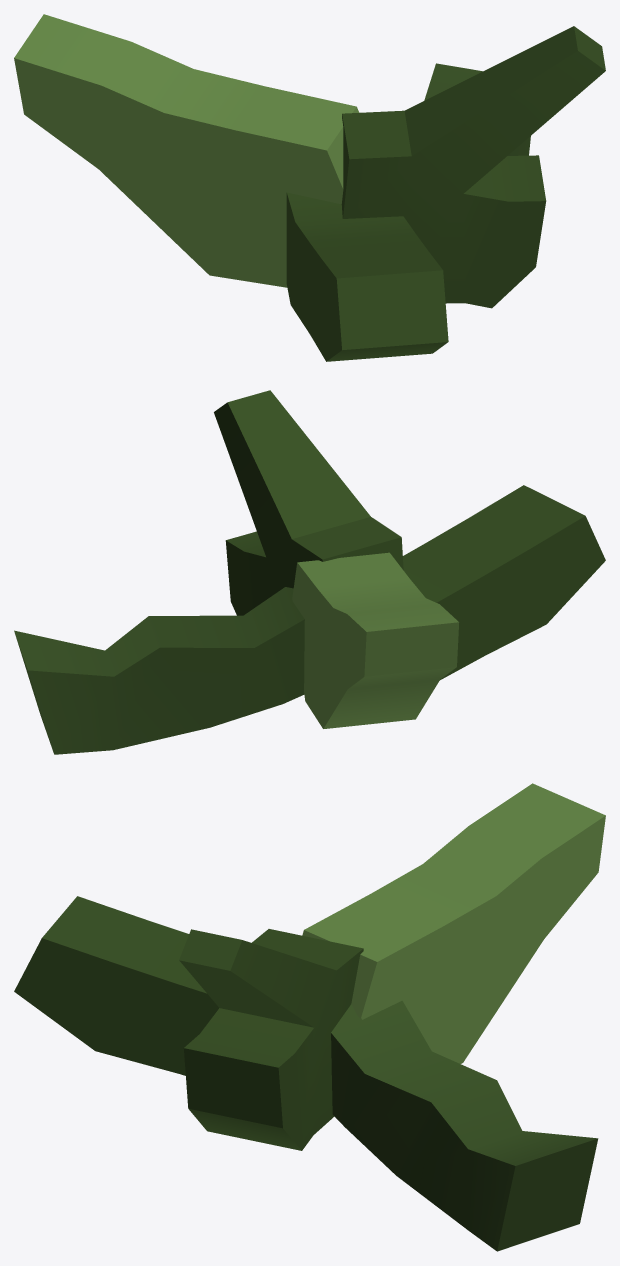
Rendered from EverGreenBranch04.fbx.
The picture shows the model from 3 angles, top to bottom: view 1: azimuth 30°, elevation 25°; view 2: azimuth 150°, elevation 25°; view 3: azimuth 270°, elevation 25°; orthographic projection. The views are drawn at different scales.
Visible parts, largest first — view 1: Evergreen04; view 2: Evergreen04; view 3: Evergreen04.
Part boxes in pixels (left/top/right/bottom): Evergreen04: left=14, top=14, right=605, bottom=361; Evergreen04: left=14, top=390, right=605, bottom=754; Evergreen04: left=14, top=783, right=605, bottom=1251.
Size of the model in its own units: 128 by 67.94 by 130.
